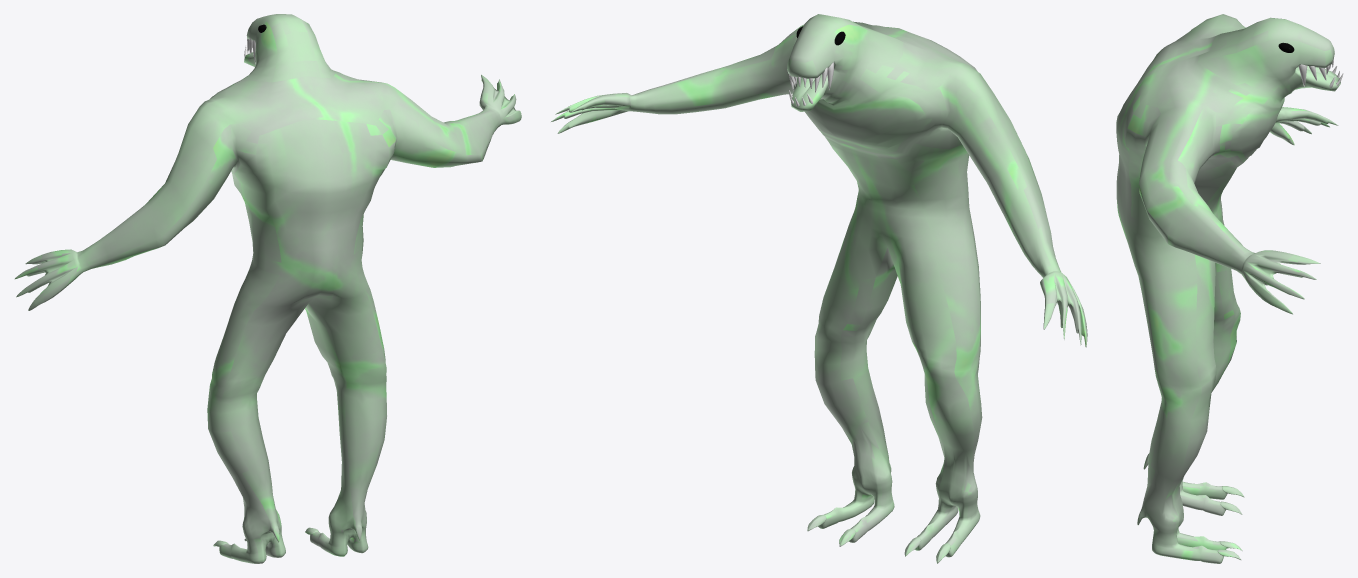
Rendered from Berserkeraranar.0025.obj.
The picture shows the model from 3 angles, left to right: view 1: azimuth 30°, elevation 25°; view 2: azimuth 150°, elevation 25°; view 3: azimuth 270°, elevation 25°; orthographic projection. The views are drawn at different scales.
Parts seen in each view (by area): view 1: polySurface27; view 2: polySurface27; view 3: polySurface27.
Boxes of the visible parts, bbox=[...] form: polySurface27: bbox=[14, 14, 521, 563]; polySurface27: bbox=[551, 14, 1087, 563]; polySurface27: bbox=[1116, 14, 1343, 563].
Size of the model in its own units: 24.3 by 23.74 by 9.22.
1 material, 1 textured.
